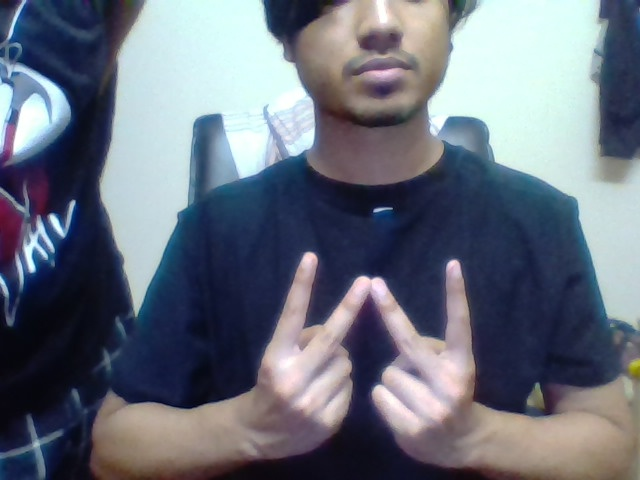W: (271, 245, 477, 358)
